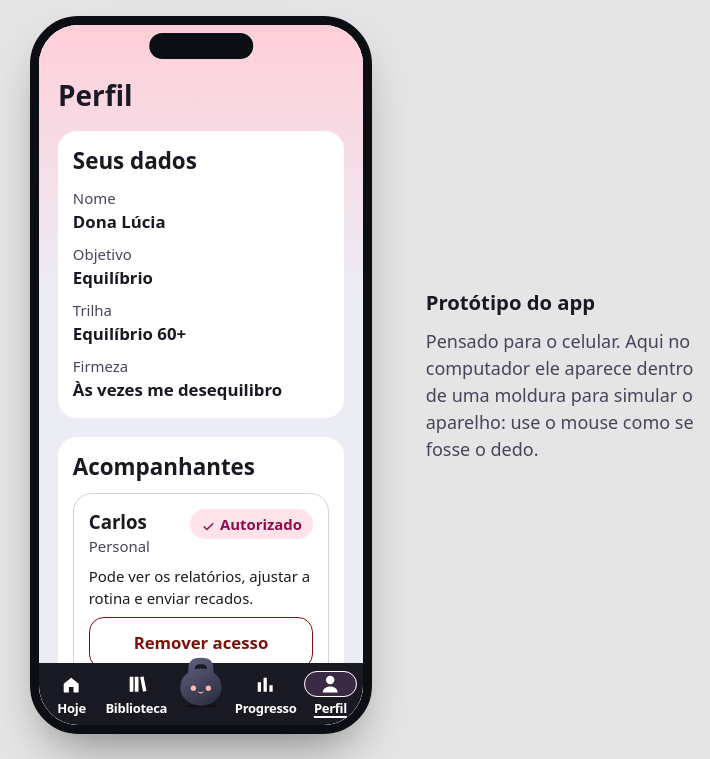
Test: acompanhantes › "Remover acesso" pede confirmação e depois tira o acompanhante da lista
Click the button with aria-label "Remover acesso de Carlos" at (201,643), box [89,617,313,669]
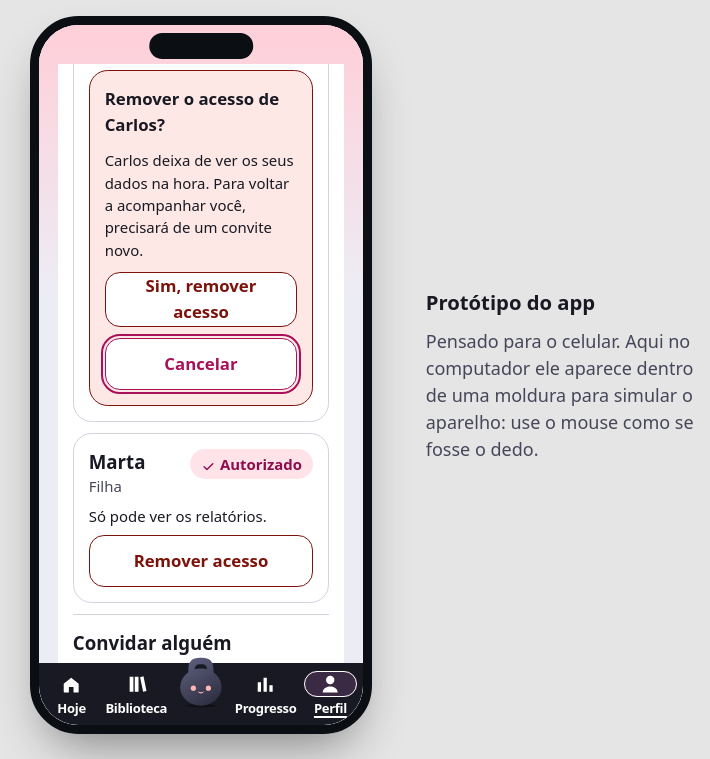
Click the button "Sim, remover acesso" at (201,299), box [105,272,297,327]
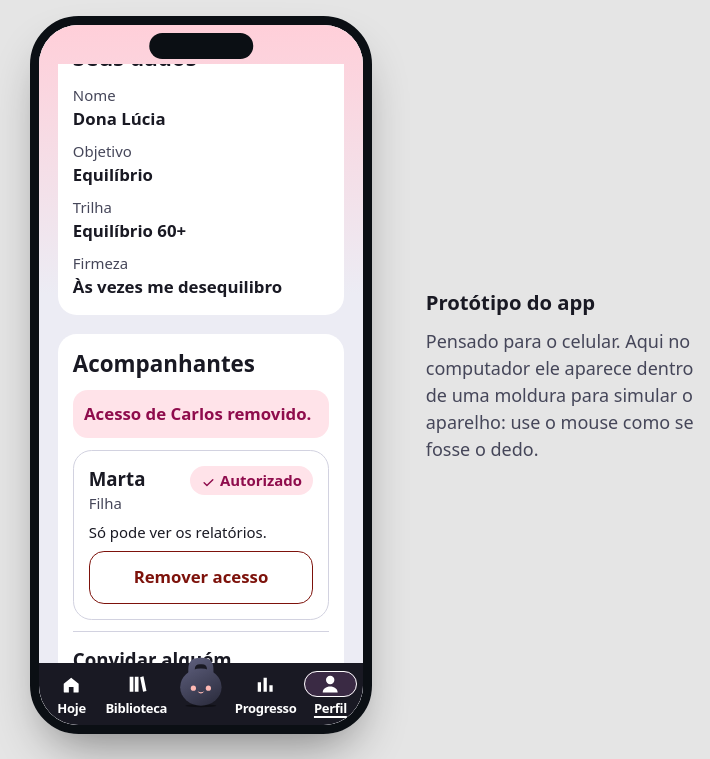
expect the list item "Marta" is shown: met, box [73,450,329,620]
expect the message shows "Acesso de Carlos removido": met, box [84,402,311,425]
